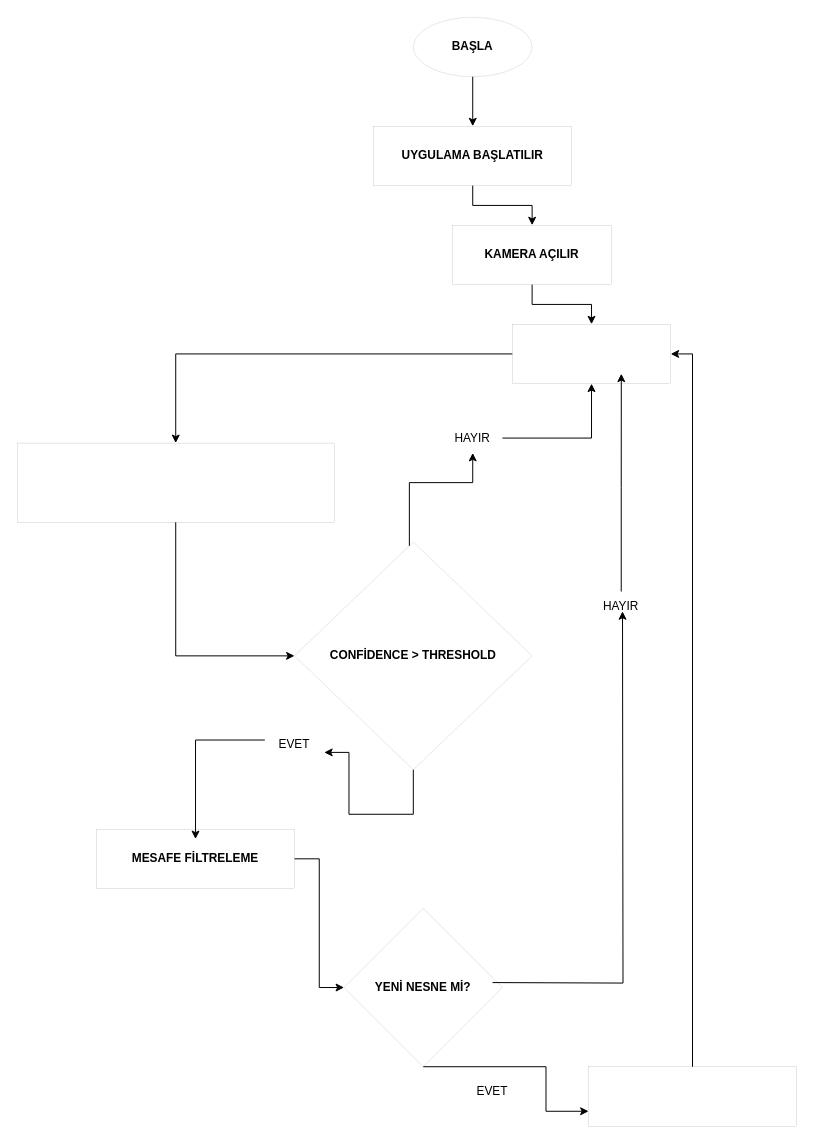
Some shapes in this 813 by 1142 pixel diagram are drawn without their labels. Each missing label, with the centre of its shape:
"FRAME ALINIR" belongs at point 591,353.
"SESLİ BİLDİRİM GÖNDER?" belongs at point 692,1096.
"YOLO ile NESNE TESPİTİ" belongs at point 175,482.
